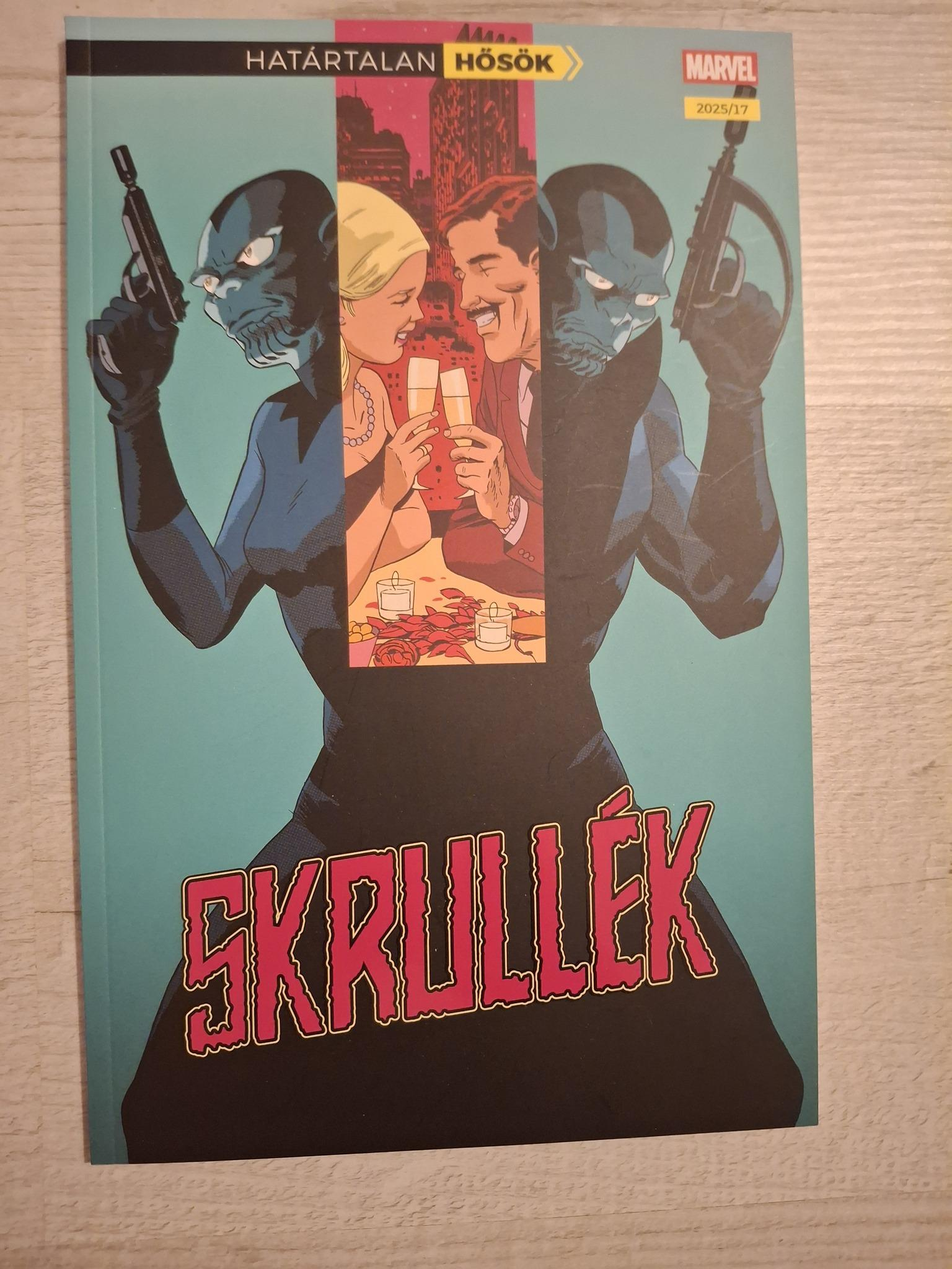comic: (60, 2, 821, 1163)
